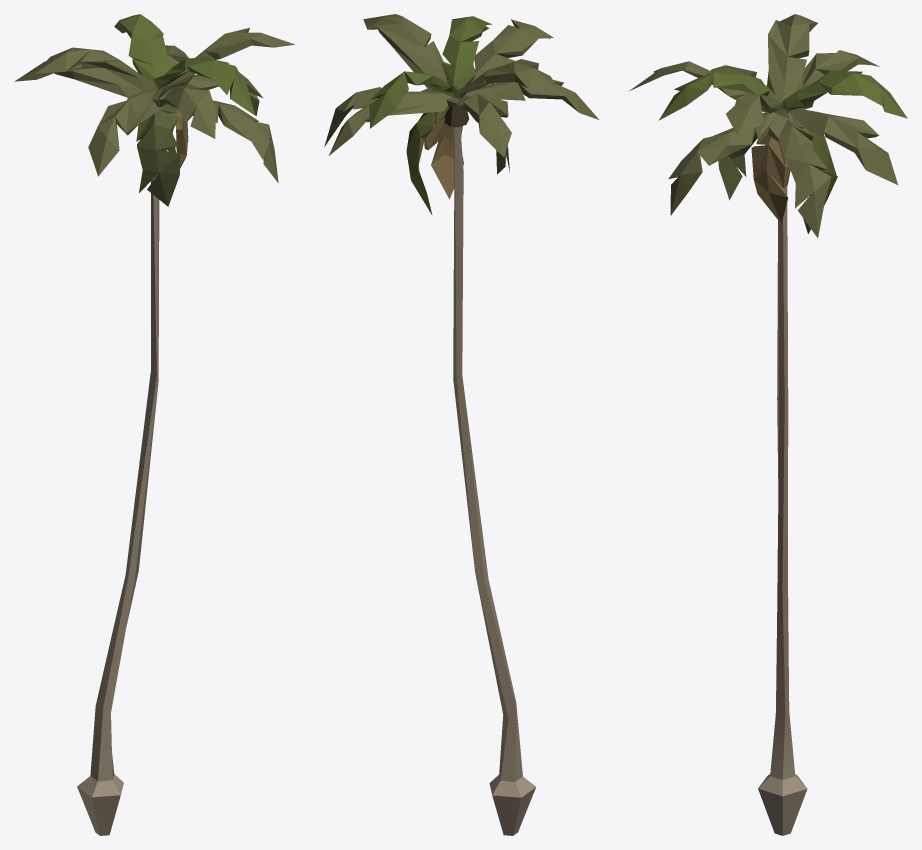
3 views of the same model, side by side, from view 1: azimuth 30°, elevation 25°; view 2: azimuth 150°, elevation 25°; view 3: azimuth 270°, elevation 25° (orthographic). The views are drawn at different scales.
Parts seen in each view (by area): view 1: SM_Env_PalmTree_Tall_02; view 2: SM_Env_PalmTree_Tall_02; view 3: SM_Env_PalmTree_Tall_02.
Boxes of the visible parts, x1,y1,x2,y2 form: SM_Env_PalmTree_Tall_02: (14,14,294,835); SM_Env_PalmTree_Tall_02: (324,14,599,835); SM_Env_PalmTree_Tall_02: (629,14,907,835).
Size of the model in its own units: 4.89 by 15.87 by 5.01.
Materials: 1 (1 with a texture image).
